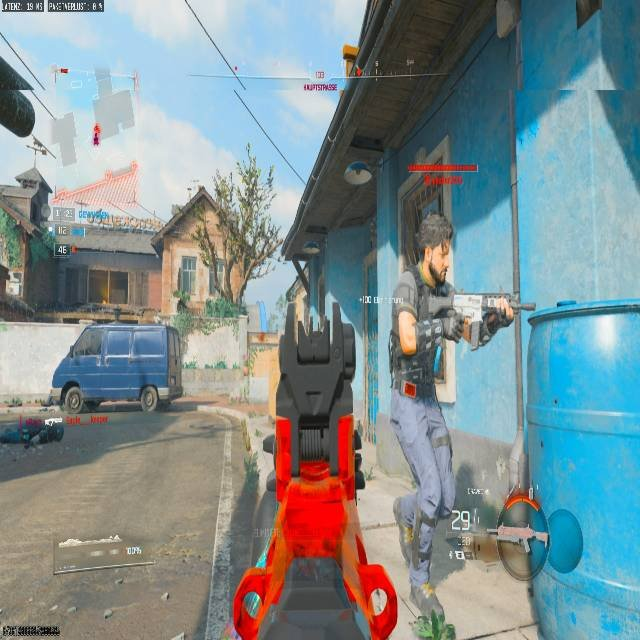head: (415, 206, 454, 285)
player: (362, 191, 513, 640), (390, 188, 514, 361)
